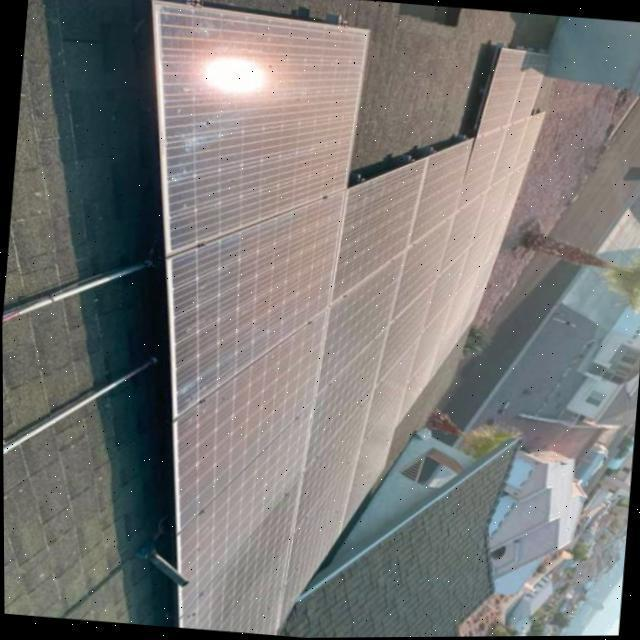Anomaly Solar Panel: (154, 0, 547, 636)
Surface Contaminant: (155, 2, 367, 636), (279, 161, 426, 625), (398, 48, 549, 426), (342, 141, 474, 531)
